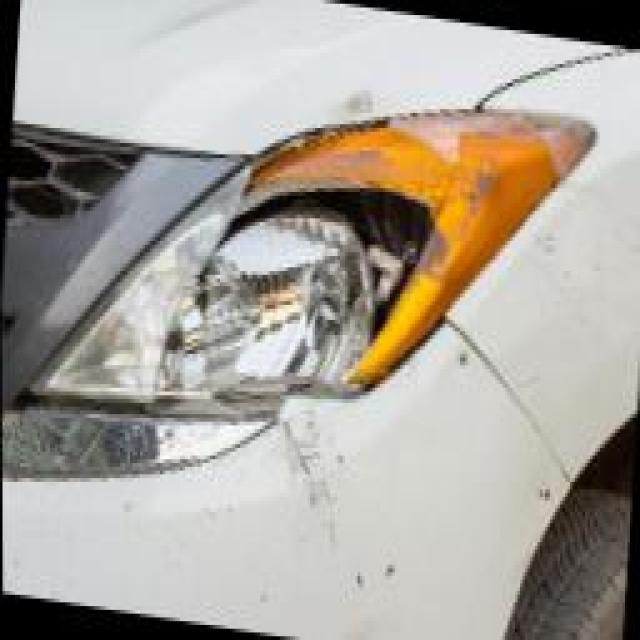Bumper: (245, 395, 473, 629)
Light: (155, 98, 421, 414)
